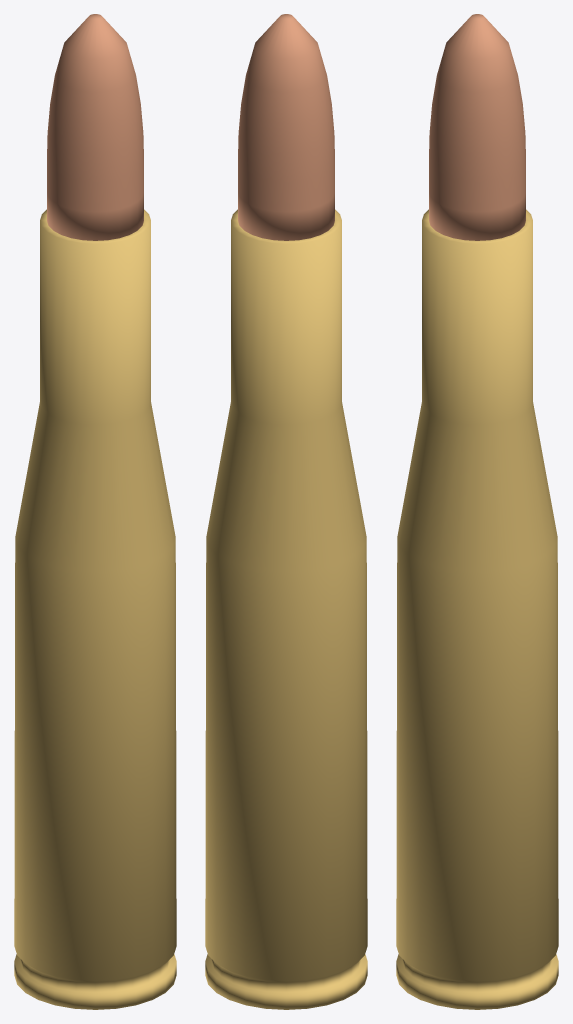
Rendered from 300wm_std.glb.
The picture shows the model from 3 angles, left to right: view 1: azimuth 30°, elevation 25°; view 2: azimuth 150°, elevation 25°; view 3: azimuth 270°, elevation 25°; orthographic projection.
Parts seen in each view (by area): view 1: vaina, bala; view 2: vaina, bala; view 3: vaina, bala.
Boxes of the visible parts, left/top/right/bottom form: vaina: left=14, top=209, right=176, bottom=1009; bala: left=47, top=14, right=143, bottom=240; vaina: left=205, top=209, right=367, bottom=1009; bala: left=238, top=14, right=334, bottom=240; vaina: left=396, top=209, right=558, bottom=1009; bala: left=429, top=14, right=525, bottom=240.
Bounding box in the file's own units: 0.013 × 0.0848 × 0.013.
